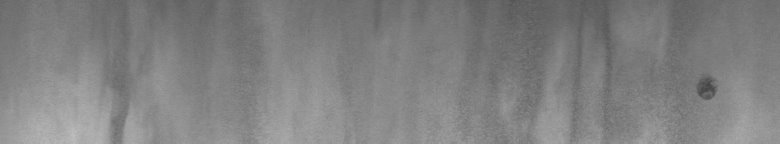fi: (692, 72, 720, 108)
